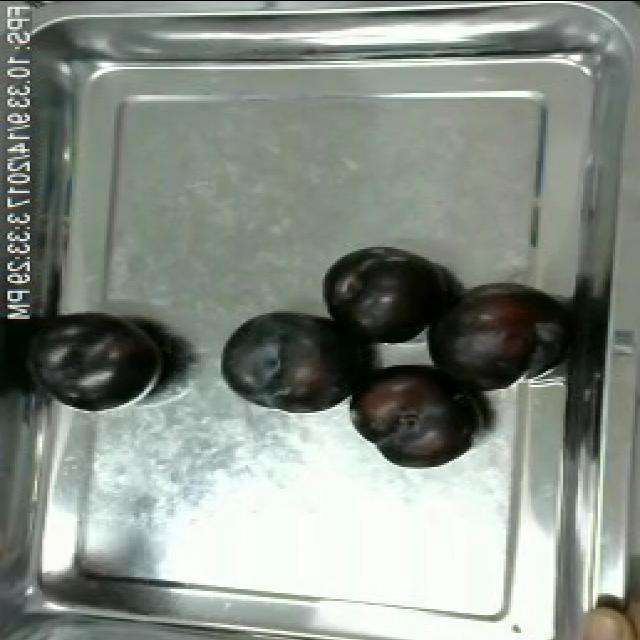Fruit: (211, 302, 365, 414), (25, 304, 176, 416), (342, 358, 487, 472), (416, 278, 550, 396), (318, 242, 450, 348)
